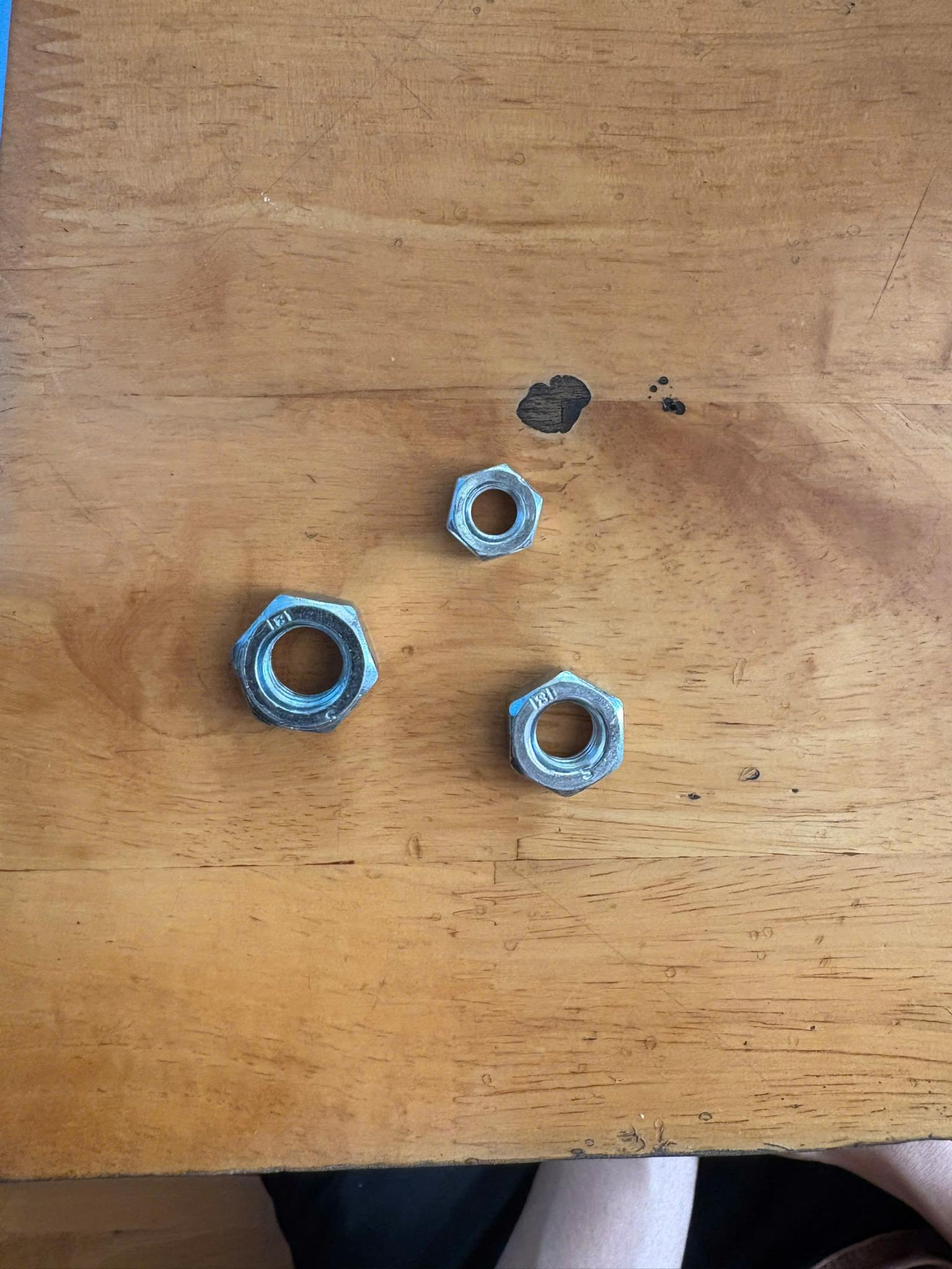nut: (216, 588, 385, 742), (436, 454, 551, 571)
